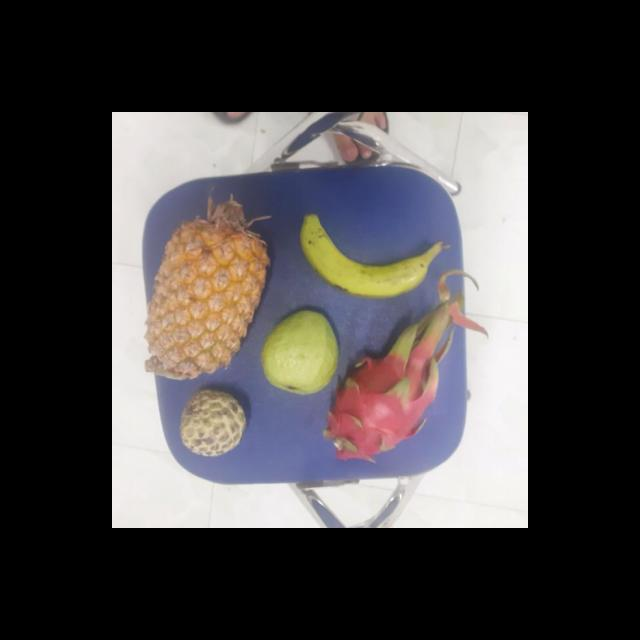Sakya fruit: (179, 391, 249, 456)
banana: (304, 220, 442, 298)
guava: (261, 310, 343, 395)
pineapple: (148, 218, 268, 378)
pitaya: (328, 350, 440, 460)
